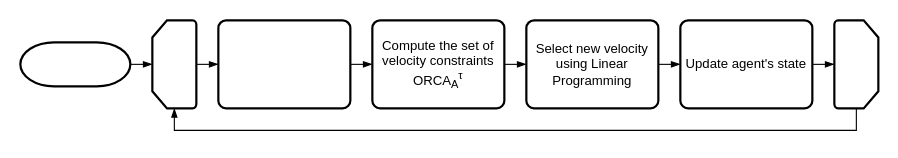
Image size: 898x158. Some labels were removed from this diagram. The centre of each missing label's shape, as x and y in pixels:
"Start" belongs at (75,64).
"Update information about other agents" belongs at (284,64).
